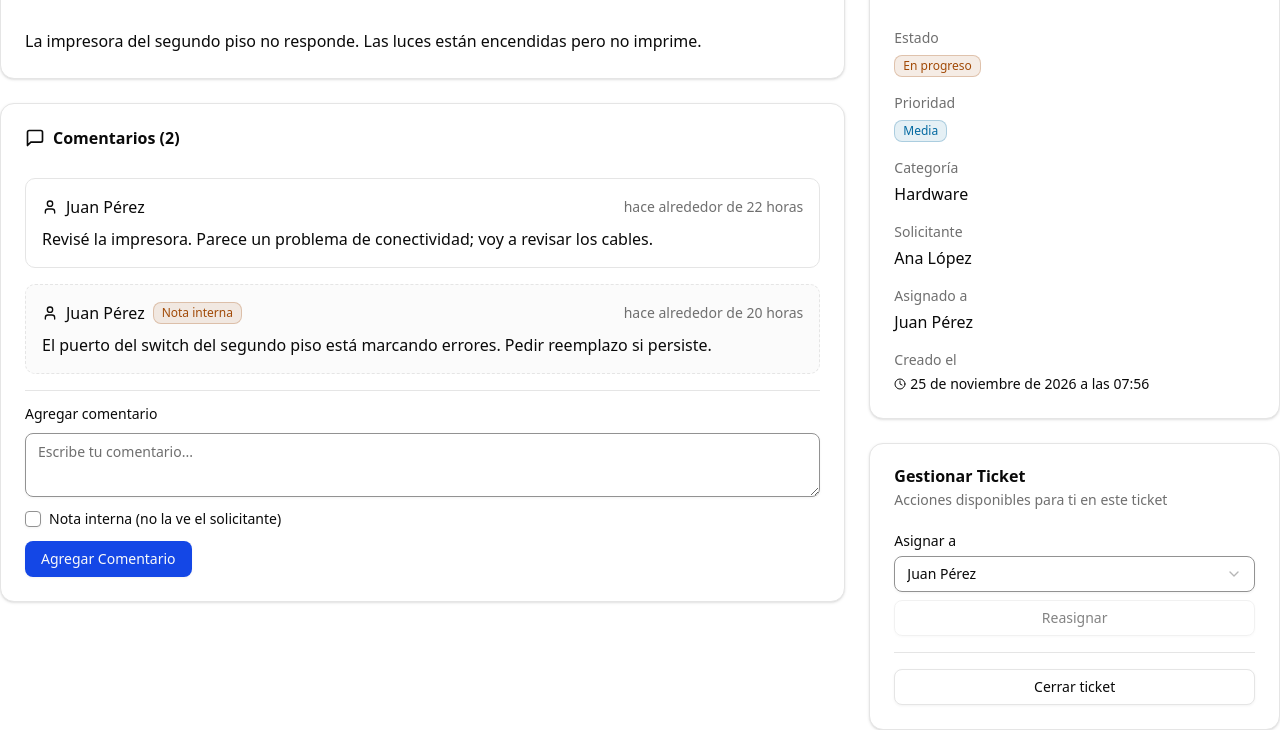
Test: TicketDetail › lets the admin close a ticket after confirming
(page scrolled)
Step 1. Click the button "Cerrar ticket" → (1075,687), box top-left (894, 669), bottom-right (1255, 705)
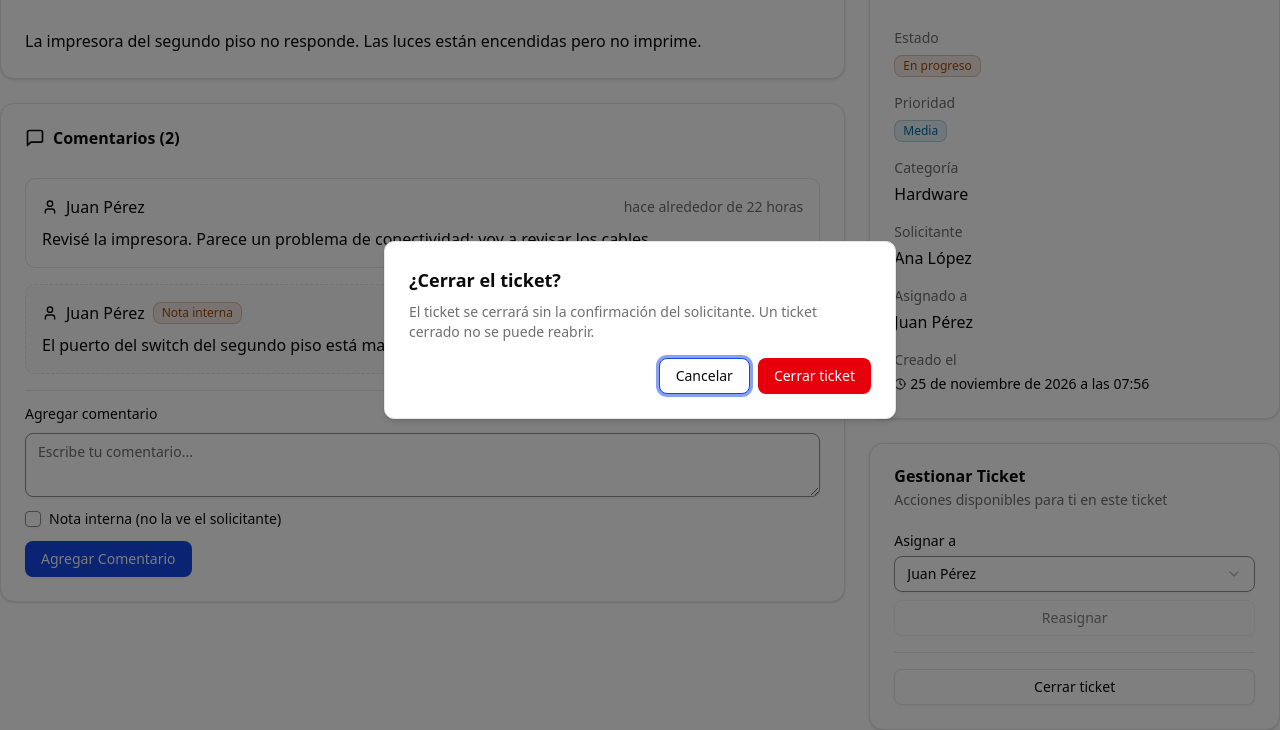
Step 2. Click the button "Cerrar ticket" → (814,376), box top-left (758, 358), bottom-right (871, 394)
(page scrolled)
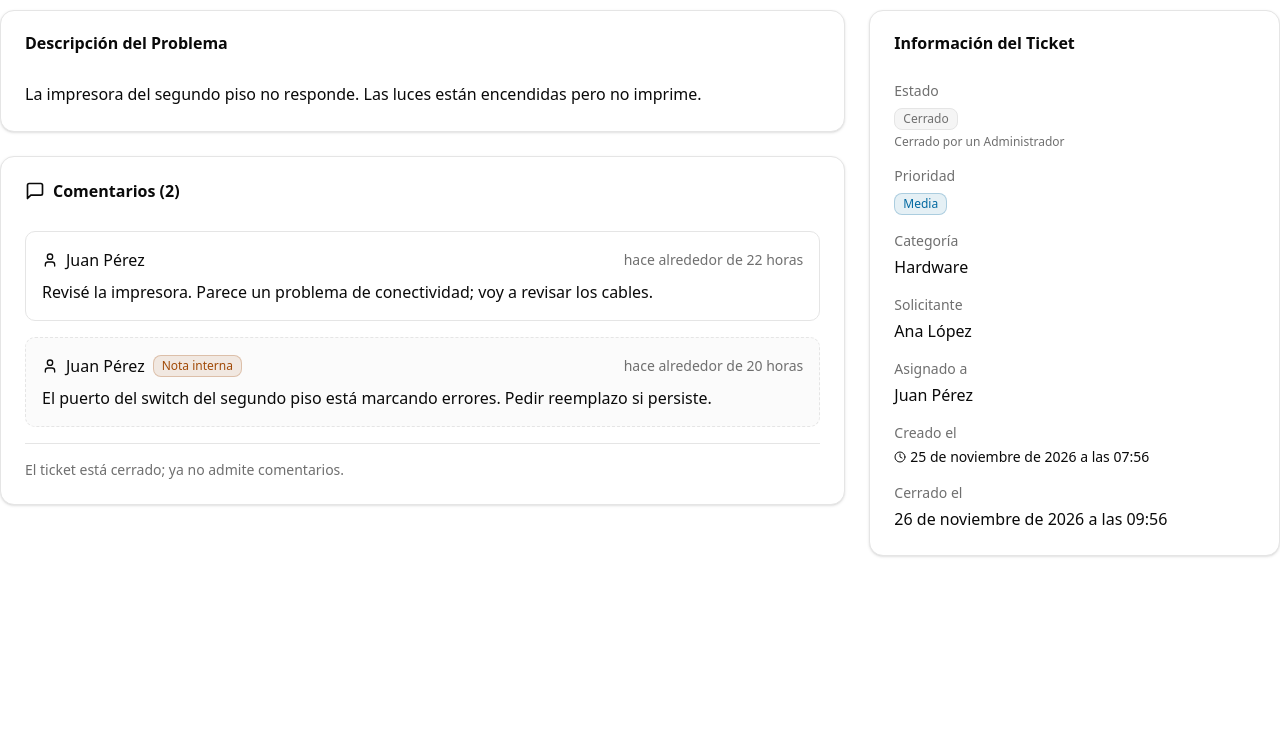
Check: the text "Cerrado por un Administrador" is shown, box top-left (894, 133), bottom-right (1064, 150)
Check: the text "El ticket está cerrado; ya no admite comentarios." is shown, box top-left (25, 460), bottom-right (344, 479)
